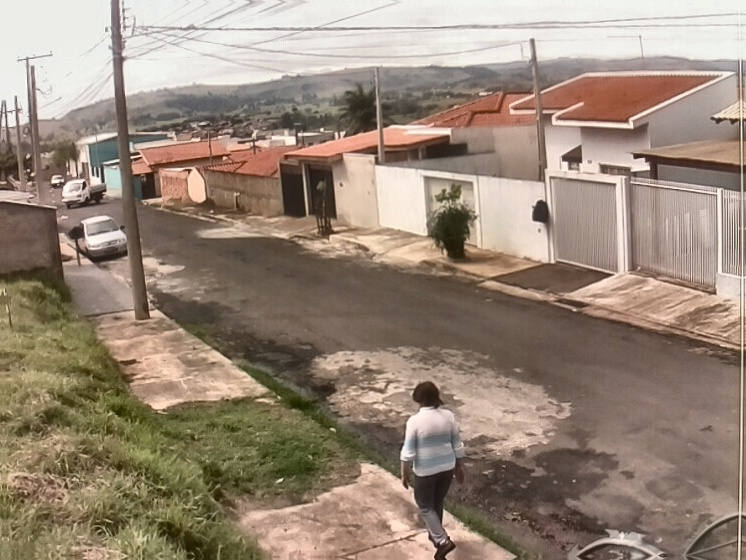person: (399, 380, 465, 560)
